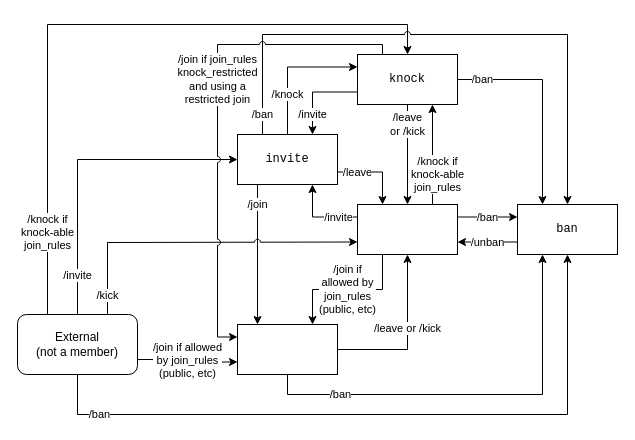
Image size: 635x440. Some labels were removed from this diagram. Here are the shapes that lost their labels. From the top down, the box of each, then its label:
(356, 204, 458, 254): leave
(236, 324, 338, 374): join
